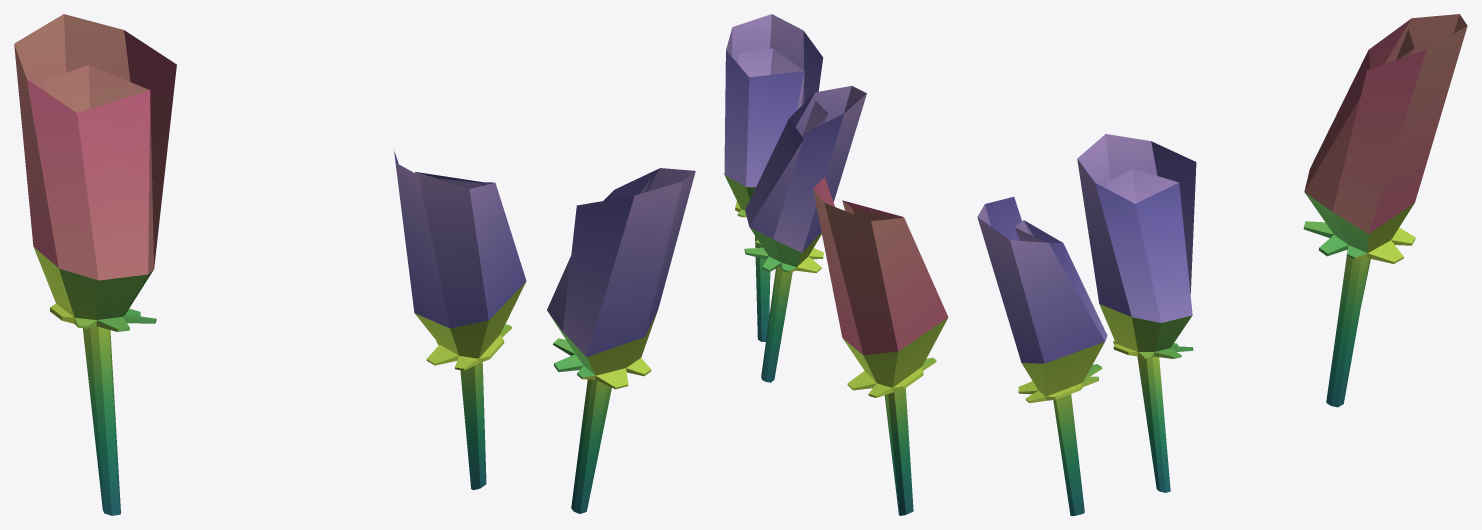
The model's file is Grass_Flowers.fbx.
3 renders of one model, left to right at view 1: azimuth 30°, elevation 25°; view 2: azimuth 150°, elevation 25°; view 3: azimuth 270°, elevation 25°, orthographic. The views are drawn at different scales.
Parts seen in each view (by area): view 1: Flowers; view 2: Flowers; view 3: Flowers.
Part boxes in pixels (<box>): Flowers: <box>14,14,695,515</box>; Flowers: <box>724,14,948,515</box>; Flowers: <box>977,14,1467,515</box>.
Size of the model in its own units: 19.8 by 18.34 by 20.87.
